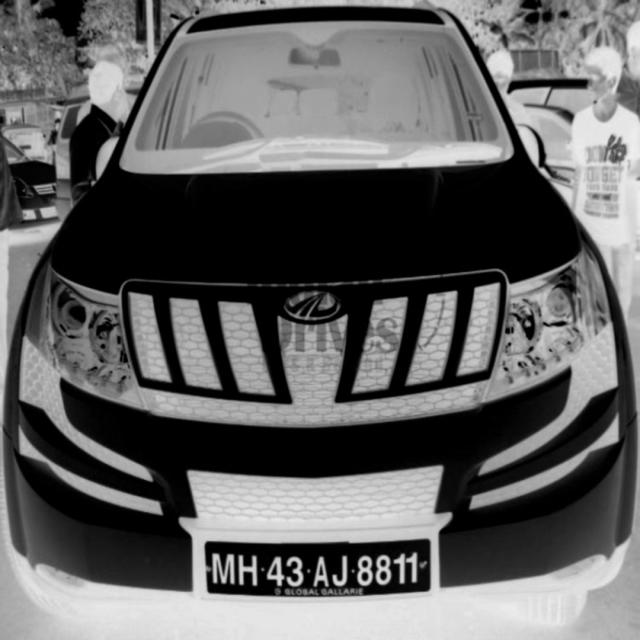Non_registered: (207, 539, 427, 594)
